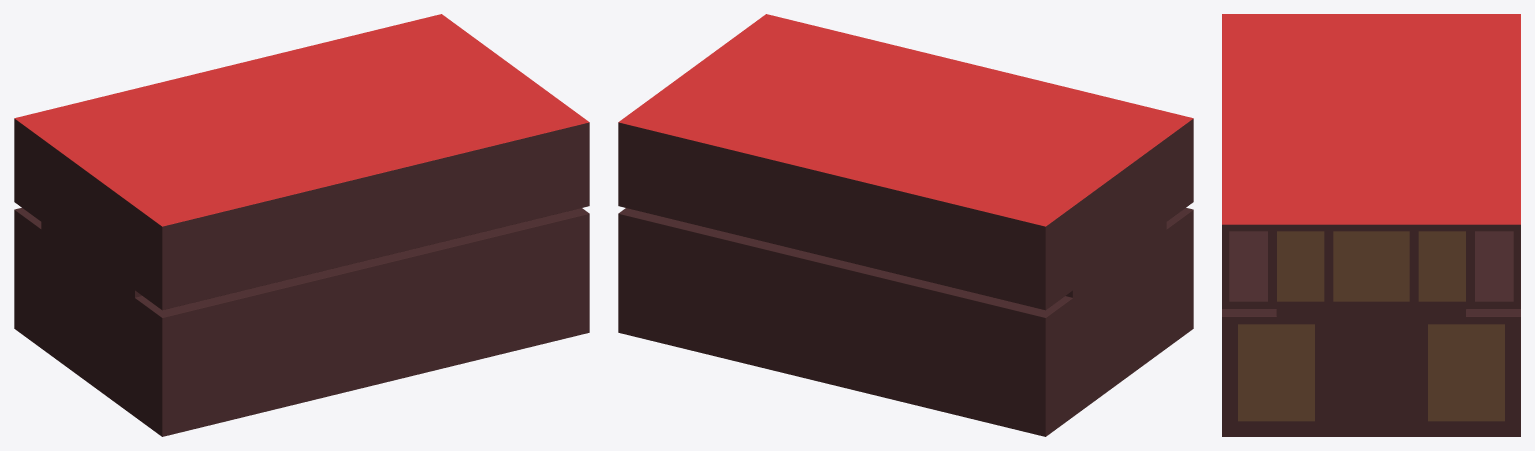
The model's file is room.fbx.
The picture shows the model from 3 angles, left to right: view 1: azimuth 30°, elevation 25°; view 2: azimuth 150°, elevation 25°; view 3: azimuth 270°, elevation 25°; orthographic projection.
Parts seen in each view (by area): view 1: Cube.002; view 2: Cube.002; view 3: Cube.002.
Boxes of the visible parts, left/top/right/bottom form: Cube.002: left=14, top=14, right=589, bottom=436; Cube.002: left=618, top=14, right=1193, bottom=436; Cube.002: left=1222, top=14, right=1520, bottom=436.
Bounding box in the file's own units: 1000 × 470 × 599.
